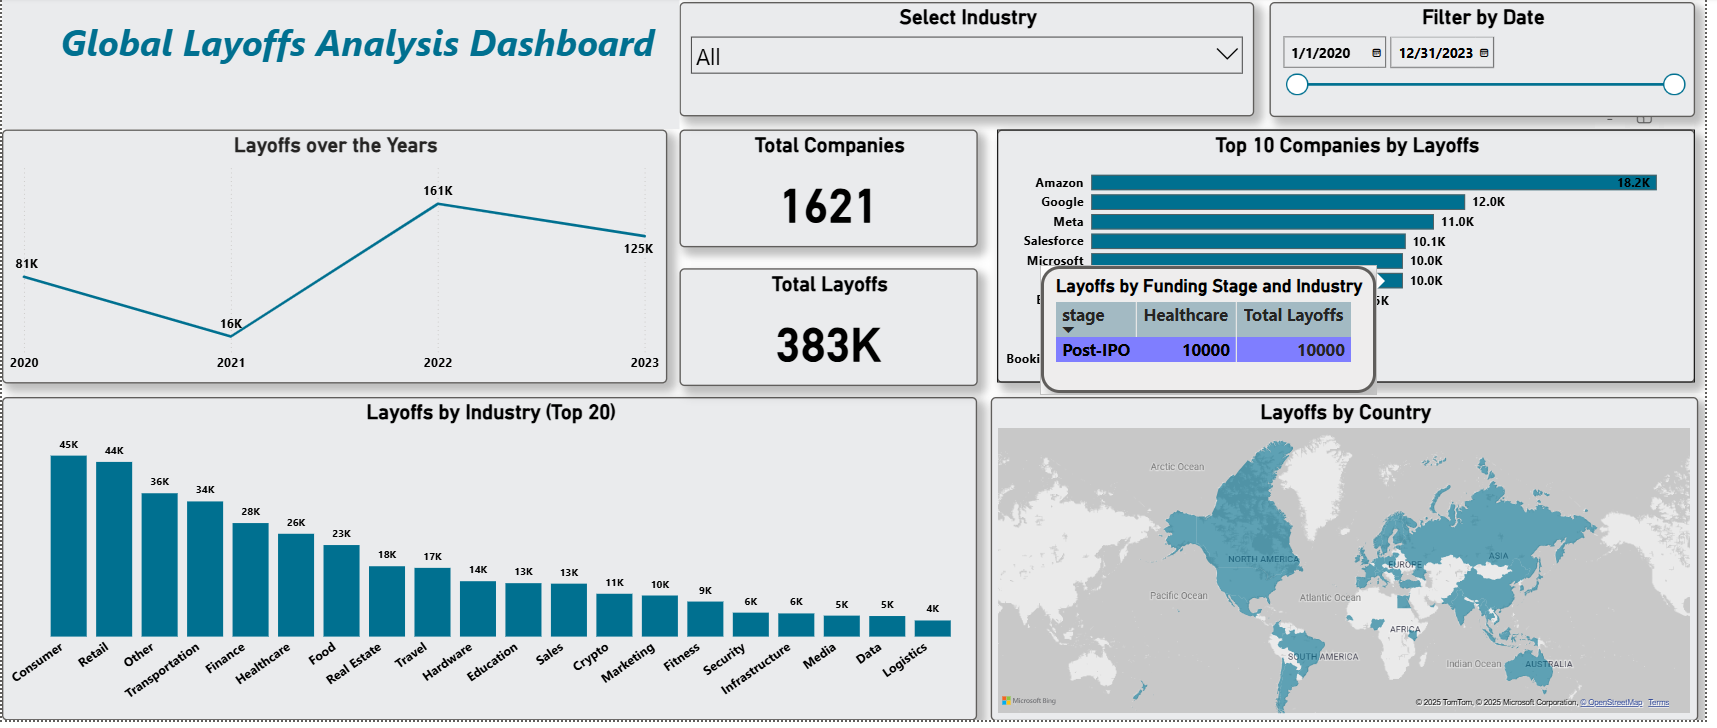

What the dashboard file says about the page in this screenshot:
{"tool":"powerbi","page":{"name":"Page 1","canvas":[2000,850],"ordinal":0},"visuals":[{"type":"clusteredBarChart","title":"Top 10 Companies by Layoffs","fields":{"Category":["World_Layoffs_Cleaned.company"],"Y":["Sum(World_Layoffs_Cleaned.total_laid_off)"]},"box":[1168.6,156.1,820.2,297.5],"z":0},{"type":"lineChart","title":"Layoffs over the Years","fields":{"Y":["Sum(World_Layoffs_Cleaned.total_laid_off)"],"Category":["Calender-Date.Year"]},"box":[0,155.6,781.2,298.4],"z":1000},{"type":"columnChart","title":"Layoffs by Industry (Top 20)","fields":{"Category":["World_Layoffs_Cleaned.industry"],"Y":["Sum(World_Layoffs_Cleaned.total_laid_off)"]},"box":[0,470.1,1145.6,379.7],"z":2000},{"type":"filledMap","title":"Layoffs by Country","fields":{"Category":["World_Layoffs_Cleaned.country"]},"box":[1161.7,469.6,831.4,380.5],"z":3000},{"type":"card","title":"Total Companies","fields":{"Values":["Dax-Measures.Total Company"]},"box":[795.5,156.1,350,138],"z":4000},{"type":"card","title":"Total Layoffs","fields":{"Values":["Dax-Measures.Total Layoffs"]},"box":[795.5,318.9,350,138],"z":5000},{"type":"slicer","title":"Filter by Date","fields":{"Values":["Calender-Date.Date"]},"box":[1489.1,5.7,499.7,135],"z":6000},{"type":"slicer","title":"Select Industry","fields":{"Values":["World_Layoffs_Cleaned.industry"]},"box":[795.6,6.4,675.3,134.7],"z":7000},{"type":"textbox","box":[0,0,795.6,155.6],"z":8000}]}

Visuals, with their boxes in screenshot pixels (x1, y1, x2, y2), scaled from the page's 2000x850 canvas onto the 1717x728 screenshot:
"Top 10 Companies by Layoffs" clusteredBarChart: {"left": 1003, "top": 134, "right": 1707, "bottom": 388}
"Layoffs over the Years" lineChart: {"left": 0, "top": 133, "right": 671, "bottom": 389}
"Layoffs by Industry (Top 20)" columnChart: {"left": 0, "top": 403, "right": 983, "bottom": 727}
"Layoffs by Country" filledMap: {"left": 997, "top": 402, "right": 1711, "bottom": 727}
"Total Companies" card: {"left": 683, "top": 134, "right": 983, "bottom": 252}
"Total Layoffs" card: {"left": 683, "top": 273, "right": 983, "bottom": 391}
"Filter by Date" slicer: {"left": 1278, "top": 5, "right": 1707, "bottom": 121}
"Select Industry" slicer: {"left": 683, "top": 5, "right": 1263, "bottom": 121}
textbox: {"left": 0, "top": 0, "right": 683, "bottom": 133}
